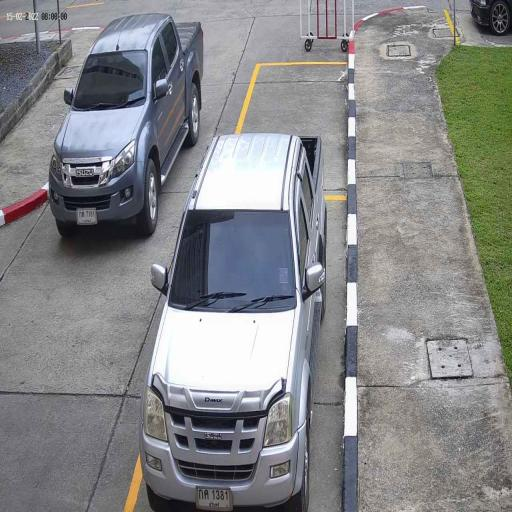car: (140, 132, 328, 512), (49, 14, 205, 234)
